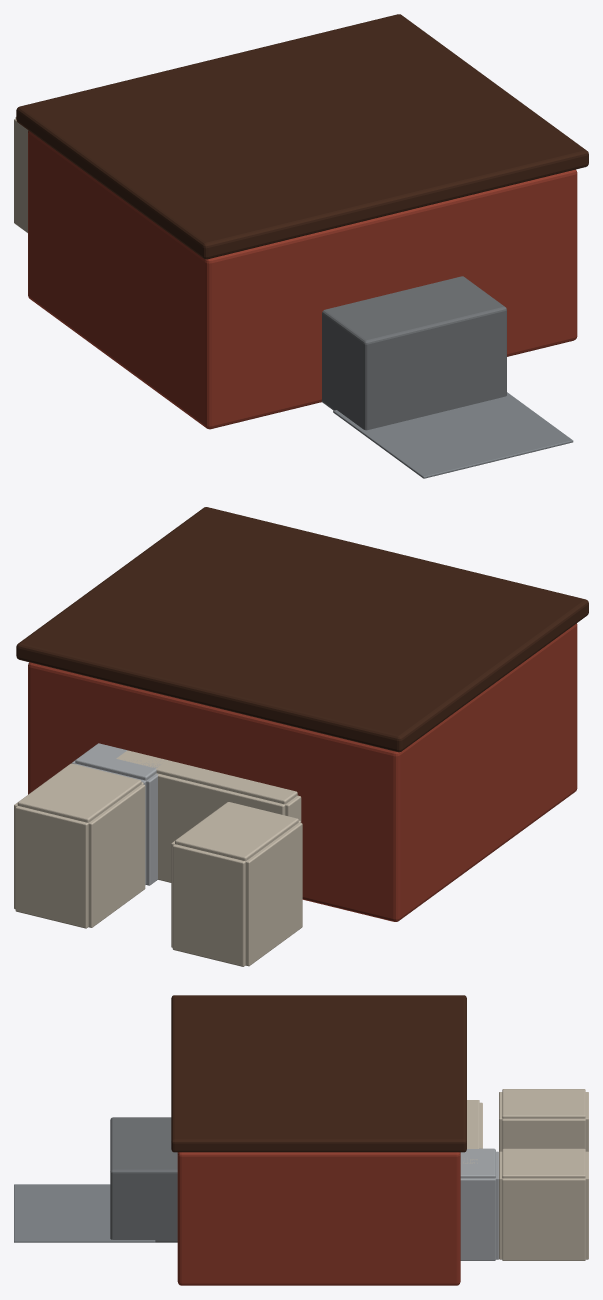
Rendered from BHC_BLD_63RD_SUBURBAN_011.glb.
3 renders of one model, top to bottom at view 1: azimuth 30°, elevation 25°; view 2: azimuth 150°, elevation 25°; view 3: azimuth 270°, elevation 25°, orthographic. The views are drawn at different scales.
Parts seen in each view (by area): view 1: SM_BHC_63rd_Suburban_011_Roof, SM_BHC_63rd_Suburban_011_Exterior, SM_BHC_63rd_Suburban_011_Garage, SM_BHC_63rd_Suburban_011_Driveway, SM_BHC_63rd_Suburban_011_BedroomA_Wall_W; view 2: SM_BHC_63rd_Suburban_011_Roof, SM_BHC_63rd_Suburban_011_Exterior, SM_BHC_63rd_Suburban_011_BedroomA_Wall_N, SM_BHC_63rd_Suburban_011_BedroomB_Wall_N, SM_BHC_63rd_Suburban_011_BedroomB_Wall_W, SM_BHC_63rd_Suburban_011_BedroomA_Wall_W, SM_BHC_63rd_Suburban_011_Living_Wall_N, SM_BHC_63rd_Suburban_011_BedroomB_Ceiling, SM_BHC_63rd_Suburban_011_BedroomA_Ceiling, SM_BHC_63rd_Suburban_011_Living_Ceiling, SM_BHC_63rd_Suburban_011_Bath_Ceiling, SM_BHC_63rd_Suburban_011_Bath_Wall_W; view 3: SM_BHC_63rd_Suburban_011_Roof, SM_BHC_63rd_Suburban_011_Exterior, SM_BHC_63rd_Suburban_011_Garage, SM_BHC_63rd_Suburban_011_BedroomB_Wall_E, SM_BHC_63rd_Suburban_011_Driveway, SM_BHC_63rd_Suburban_011_Bath_Wall_E, SM_BHC_63rd_Suburban_011_BedroomA_Wall_E, SM_BHC_63rd_Suburban_011_BedroomB_Ceiling, SM_BHC_63rd_Suburban_011_BedroomA_Ceiling, SM_BHC_63rd_Suburban_011_Bath_Ceiling, SM_BHC_63rd_Suburban_011_Living_Ceiling, SM_BHC_63rd_Suburban_011_BedroomB_Wall_N (+1 smaller).
Boxes of the visible parts, x1=… form: SM_BHC_63rd_Suburban_011_Roof: x1=16, y1=14, x2=588, y2=259; SM_BHC_63rd_Suburban_011_Exterior: x1=28, y1=130, x2=577, y2=429; SM_BHC_63rd_Suburban_011_Garage: x1=321, y1=276, x2=506, y2=430; SM_BHC_63rd_Suburban_011_Driveway: x1=333, y1=392, x2=573, y2=478; SM_BHC_63rd_Suburban_011_BedroomA_Wall_W: x1=14, y1=118, x2=28, y2=232; SM_BHC_63rd_Suburban_011_Roof: x1=16, y1=507, x2=588, y2=752; SM_BHC_63rd_Suburban_011_Exterior: x1=28, y1=623, x2=577, y2=921; SM_BHC_63rd_Suburban_011_BedroomA_Wall_N: x1=172, y1=844, x2=245, y2=966; SM_BHC_63rd_Suburban_011_BedroomB_Wall_N: x1=15, y1=806, x2=88, y2=928; SM_BHC_63rd_Suburban_011_BedroomB_Wall_W: x1=88, y1=784, x2=145, y2=927; SM_BHC_63rd_Suburban_011_BedroomA_Wall_W: x1=245, y1=822, x2=302, y2=966; SM_BHC_63rd_Suburban_011_Living_Wall_N: x1=156, y1=773, x2=285, y2=882; SM_BHC_63rd_Suburban_011_BedroomB_Ceiling: x1=17, y1=763, x2=141, y2=822; SM_BHC_63rd_Suburban_011_BedroomA_Ceiling: x1=175, y1=802, x2=298, y2=861; SM_BHC_63rd_Suburban_011_Living_Ceiling: x1=116, y1=750, x2=297, y2=804; SM_BHC_63rd_Suburban_011_Bath_Ceiling: x1=75, y1=743, x2=160, y2=780; SM_BHC_63rd_Suburban_011_Bath_Wall_W: x1=146, y1=773, x2=158, y2=885; SM_BHC_63rd_Suburban_011_Roof: x1=171, y1=995, x2=466, y2=1152; SM_BHC_63rd_Suburban_011_Exterior: x1=177, y1=1152, x2=460, y2=1285; SM_BHC_63rd_Suburban_011_Garage: x1=110, y1=1117, x2=177, y2=1242; SM_BHC_63rd_Suburban_011_BedroomB_Wall_E: x1=502, y1=1178, x2=585, y2=1260; SM_BHC_63rd_Suburban_011_Driveway: x1=14, y1=1184, x2=155, y2=1242; SM_BHC_63rd_Suburban_011_Bath_Wall_E: x1=460, y1=1178, x2=495, y2=1260; SM_BHC_63rd_Suburban_011_BedroomA_Wall_E: x1=502, y1=1118, x2=585, y2=1148; SM_BHC_63rd_Suburban_011_BedroomB_Ceiling: x1=502, y1=1148, x2=585, y2=1178; SM_BHC_63rd_Suburban_011_BedroomA_Ceiling: x1=502, y1=1089, x2=585, y2=1118; SM_BHC_63rd_Suburban_011_Bath_Ceiling: x1=460, y1=1148, x2=495, y2=1178; SM_BHC_63rd_Suburban_011_Living_Ceiling: x1=463, y1=1100, x2=479, y2=1163; SM_BHC_63rd_Suburban_011_BedroomB_Wall_N: x1=585, y1=1151, x2=588, y2=1259.
Size of the model in its own units: 10.8 by 5.12 by 17.9.
